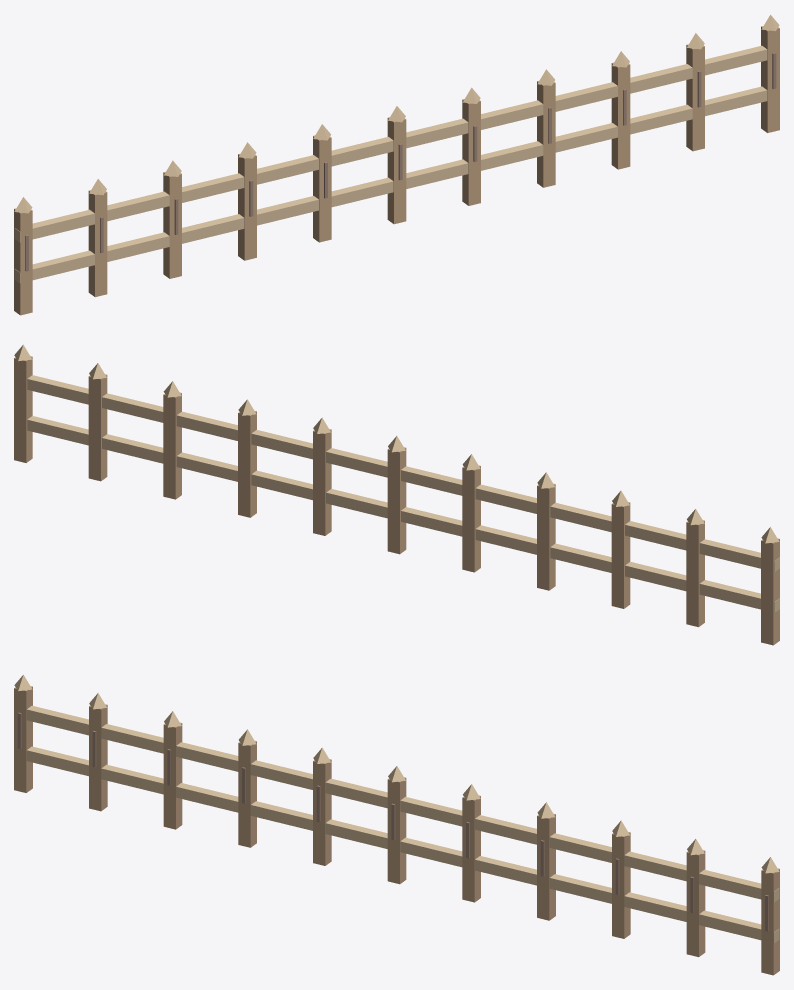
The model's file is cerca_lateral.glb.
3 views of the same model, one above another, from view 1: azimuth 30°, elevation 25°; view 2: azimuth 150°, elevation 25°; view 3: azimuth 330°, elevation 25° (orthographic).
Parts seen in each view (by area): view 1: cerca_lateral; view 2: cerca_lateral; view 3: cerca_lateral.
Part boxes in pixels (<box>): cerca_lateral: <box>14,14,779,315</box>; cerca_lateral: <box>14,344,779,645</box>; cerca_lateral: <box>14,674,779,975</box>.
Size of the model in its own units: 11.78 by 1.69 by 0.28.
